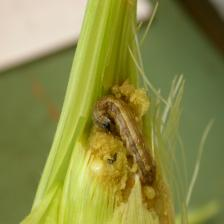Worms: (84, 83, 162, 188)
